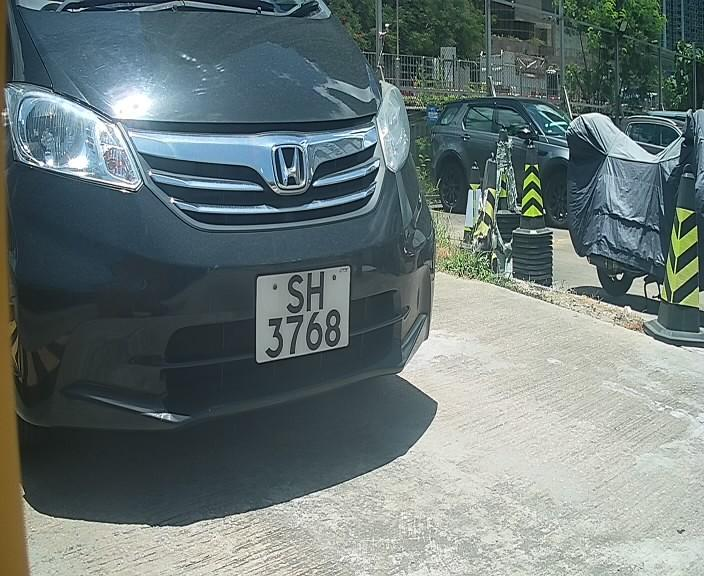License Plate: (249, 258, 356, 368)
